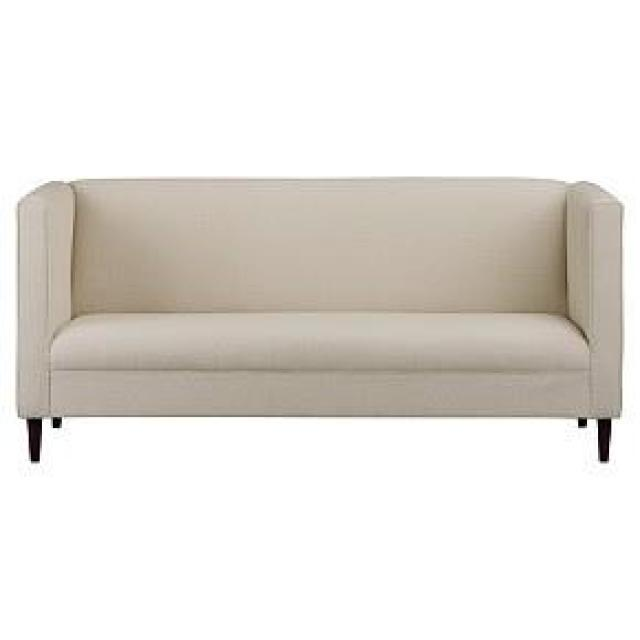sofa: (12, 168, 628, 472)
